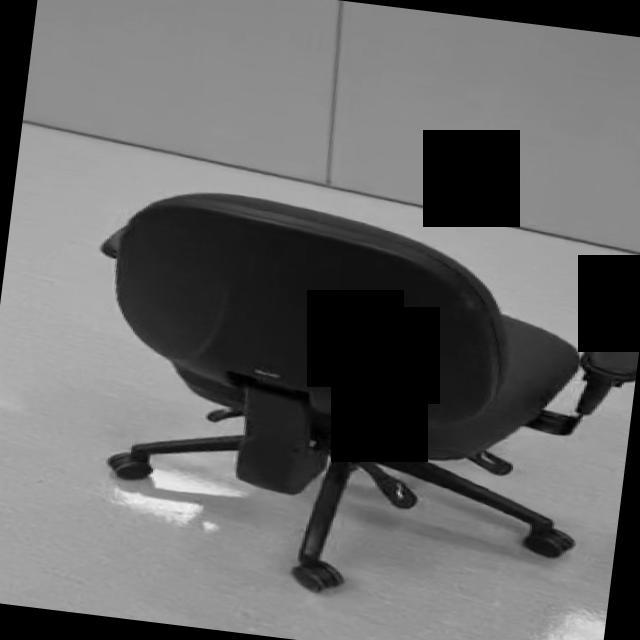chair: (62, 177, 640, 625)
